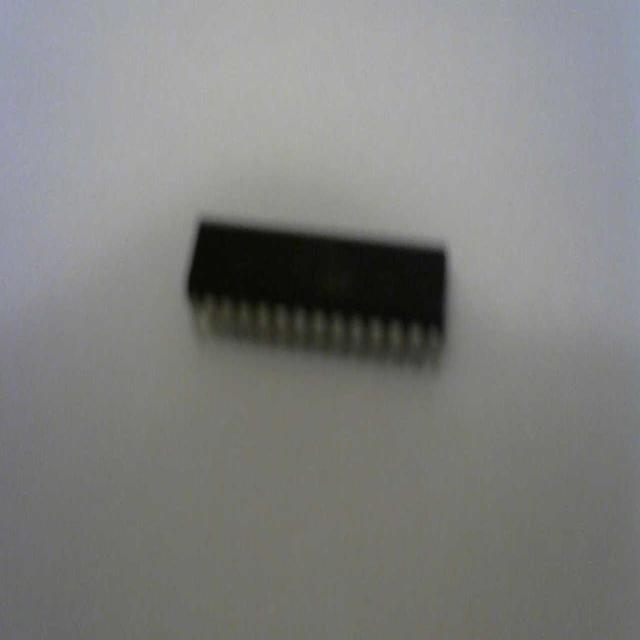atmega: (184, 212, 450, 372)
